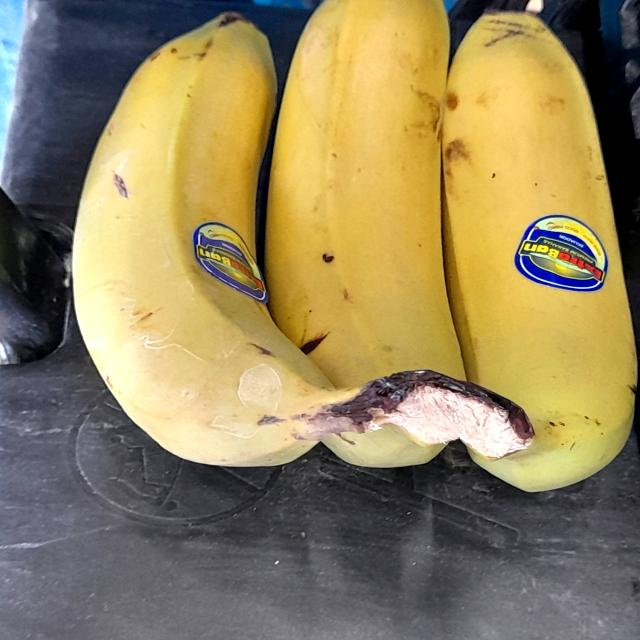banana: (64, 8, 468, 488)
